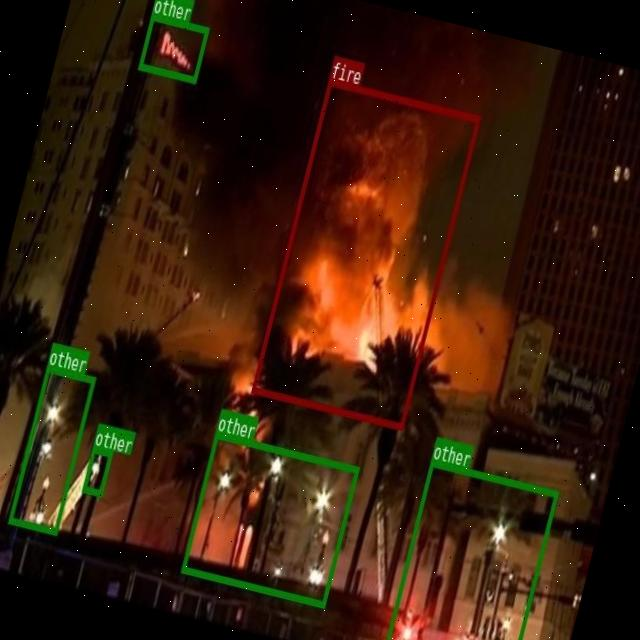fire: (250, 78, 480, 428)
